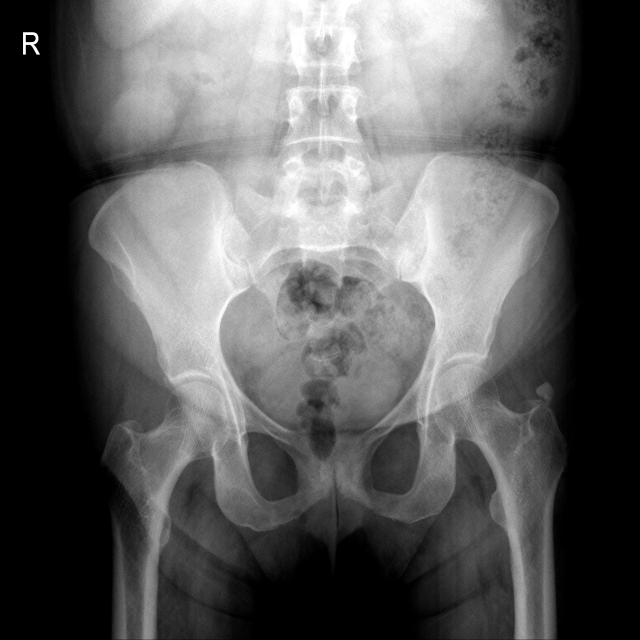left-grater-trochanter: (432, 364, 570, 640), (537, 383, 551, 405)
normal-right: (101, 382, 230, 640)
